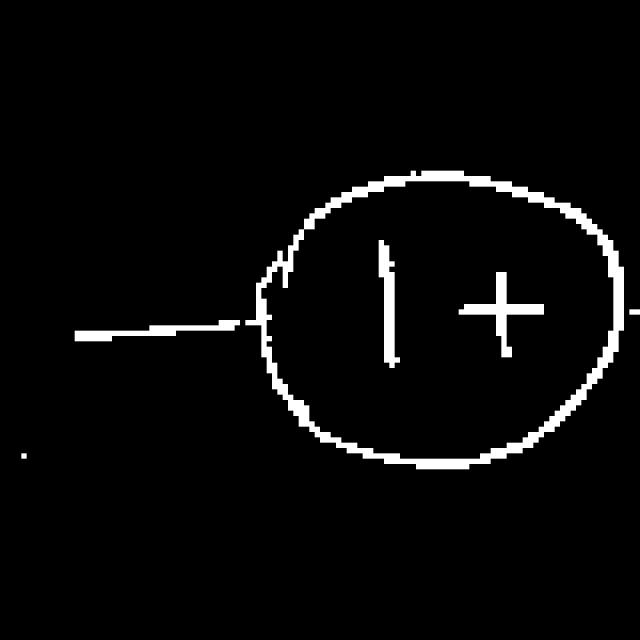voltage_source: (242, 167, 627, 476)
